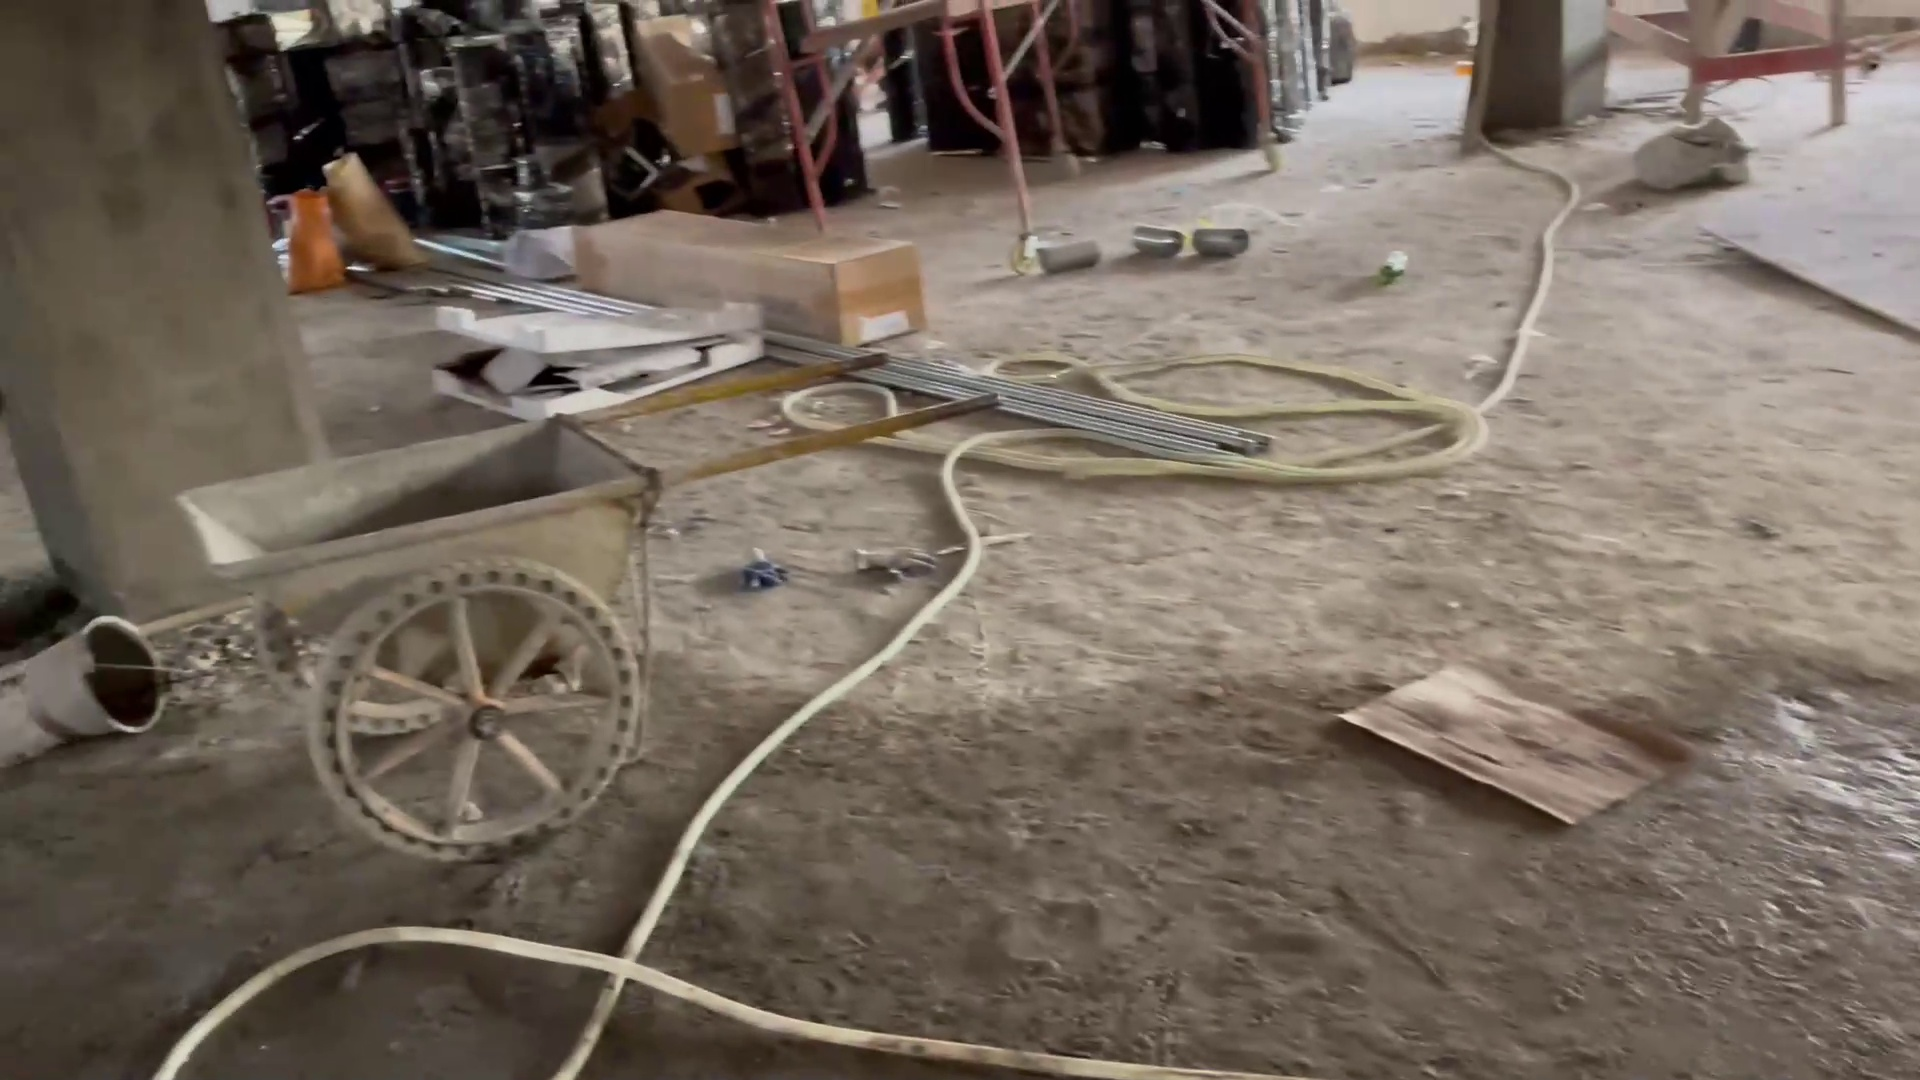handcart: (127, 352, 1062, 843)
